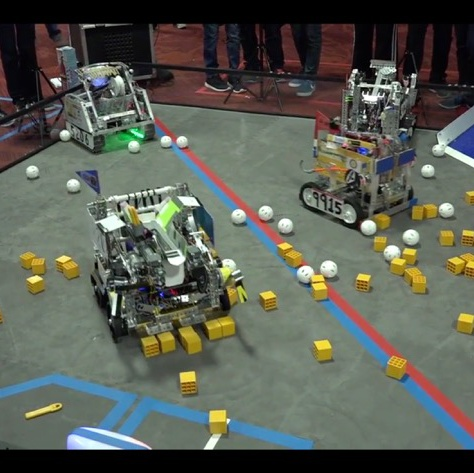robot: (75, 164, 246, 347), (295, 111, 423, 230), (52, 43, 162, 156), (341, 22, 421, 138)
